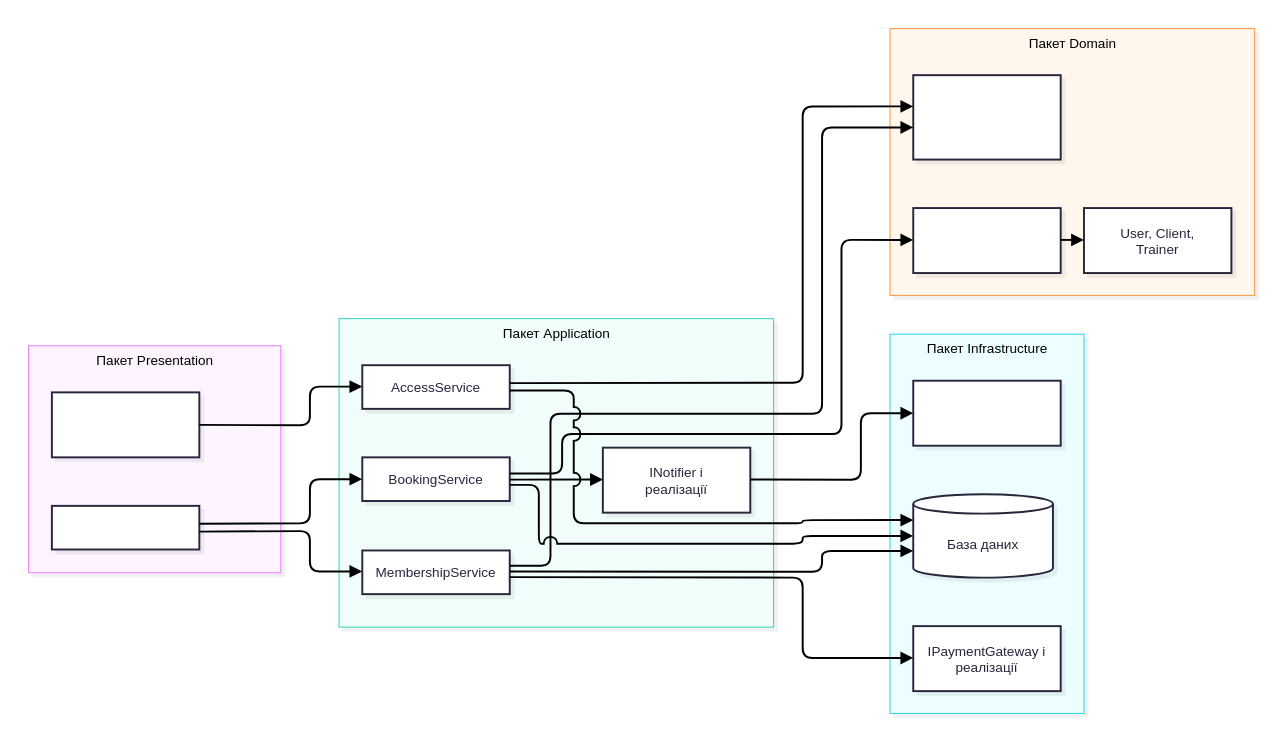
Some shapes in this 1276 by 734 pixel diagram are drawn without their labels. The centre of each missing label's shape, as x and y in pixels:
ClassSession, Booking, Visit: [988,242]
Email і SMS шлюзи: [988,414]
Membership, MembershipPlan, Payment: [988,119]
Вебінтерфейс: [127,529]
Інтерфейс турнікета: [127,426]
